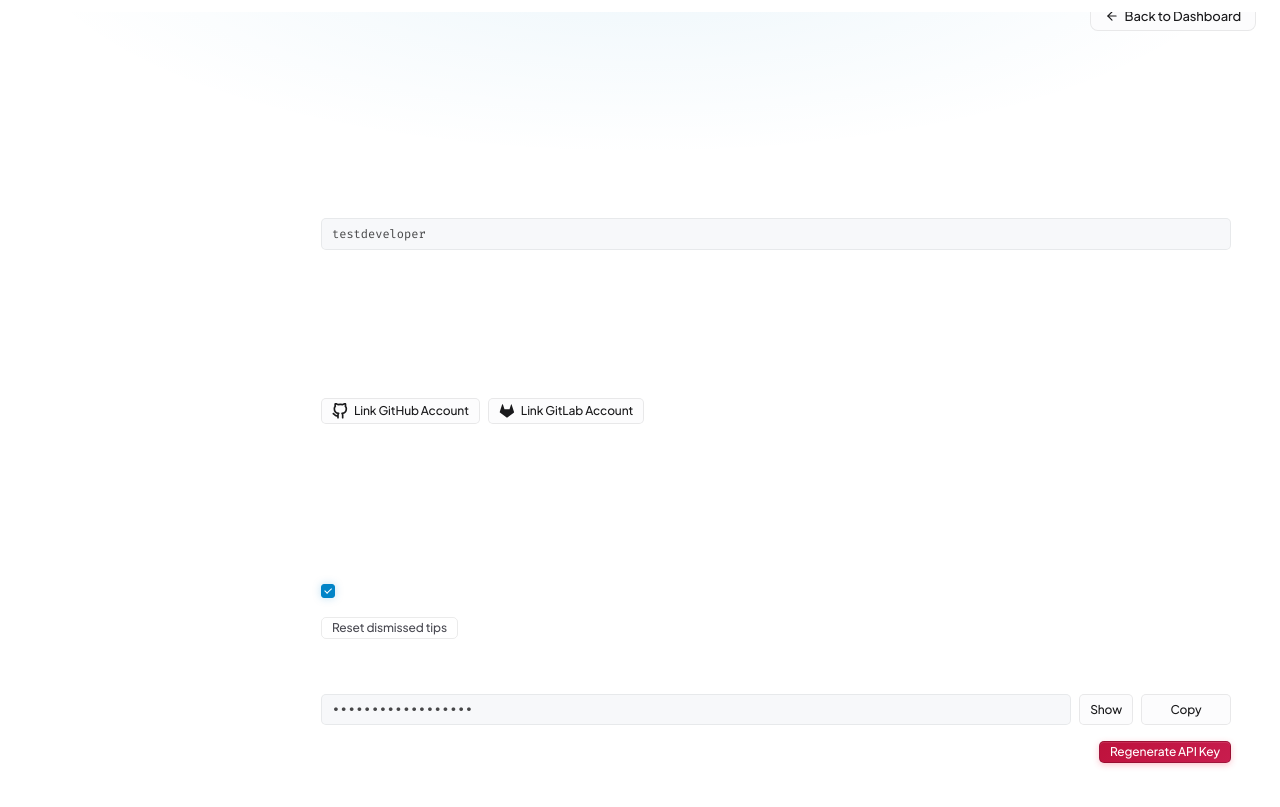
it: UserSettings Component › handles API key regeneration flow
(page scrolled)
Click the button "Regenerate API Key" at (1165, 752), box [1099,741,1231,763]
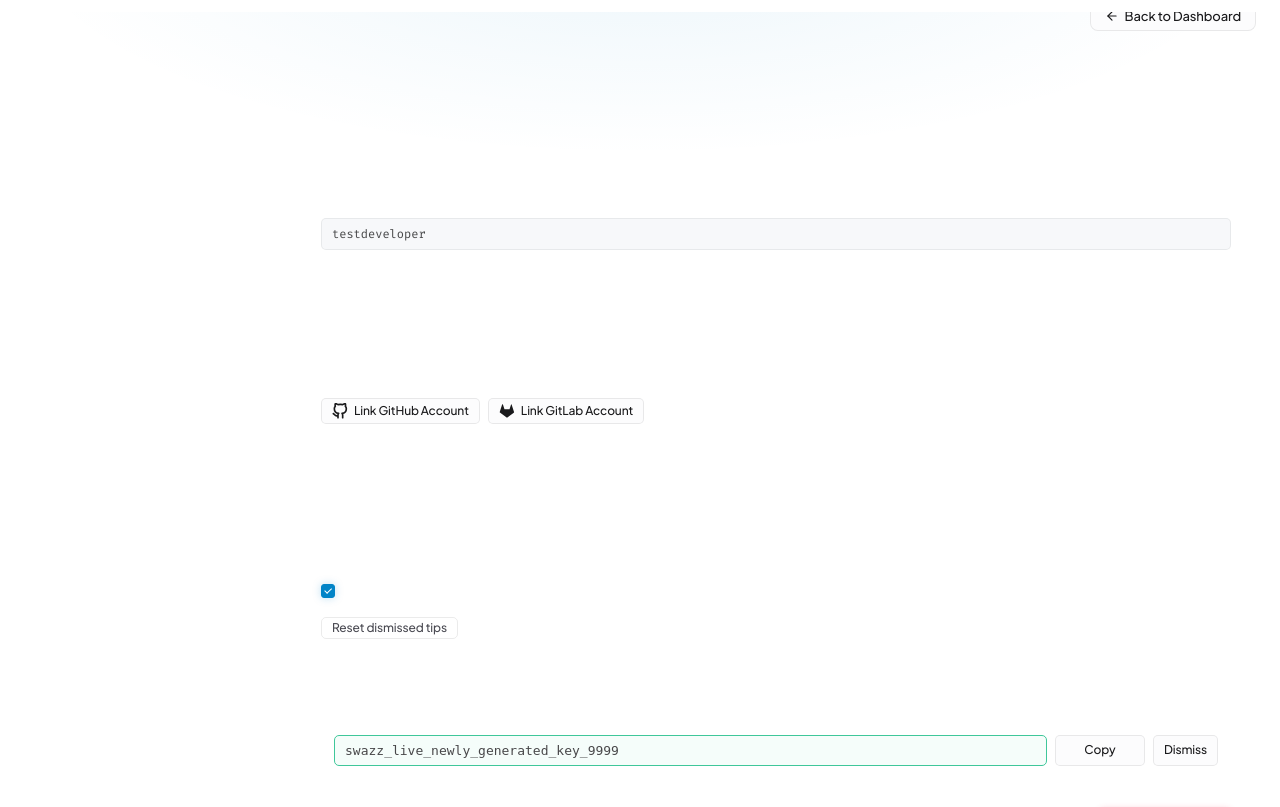
Now the field showing "swazz_live_newly_generated_key_9999" below "Please copy your new API key now." is shown, box [334,734,1047,766]
